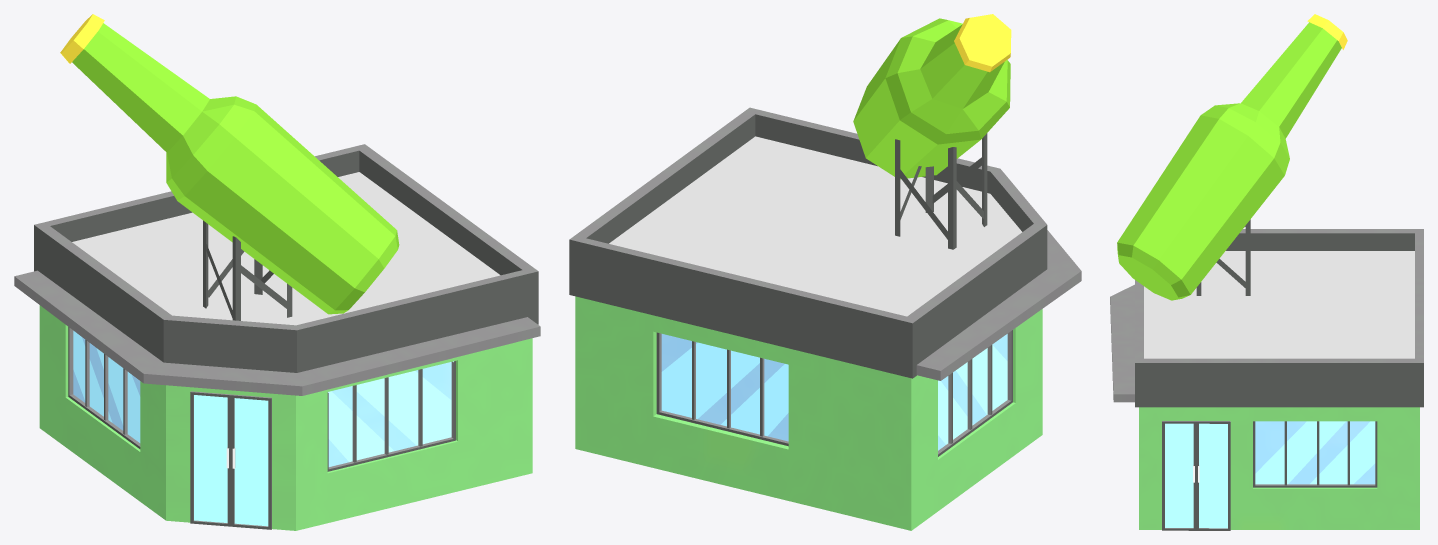
File: tile_for_home_1x1.006 (10) whiskey.glb
3 views of the same model, side by side, from view 1: azimuth 30°, elevation 25°; view 2: azimuth 150°, elevation 25°; view 3: azimuth 270°, elevation 25° (orthographic). The views are drawn at different scales.
Parts seen in each view (by area): view 1: snack.001; view 2: snack.001; view 3: snack.001.
Boxes of the visible parts, x1,y1,x2,y2 form: snack.001: (14, 14, 540, 530); snack.001: (569, 14, 1081, 530); snack.001: (1110, 14, 1423, 530).
Size of the model in its own units: 6.29 by 7.52 by 5.64.
Materials: 1 (1 with a texture image).
